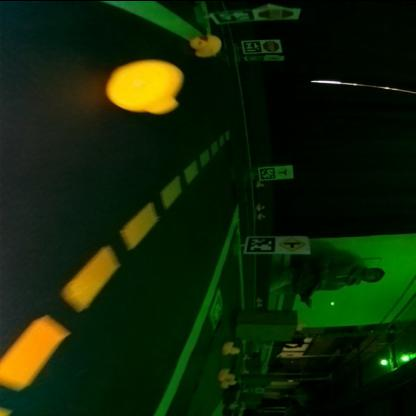Duckie: (108, 58, 184, 113), (192, 33, 223, 55), (223, 341, 242, 353), (218, 367, 236, 379), (223, 379, 236, 386), (258, 212, 266, 218), (258, 203, 266, 209), (258, 180, 265, 186), (256, 296, 264, 301)
Intersection sign: (279, 235, 307, 251), (277, 165, 293, 177)
QR code: (208, 287, 224, 329), (247, 235, 277, 252), (214, 10, 252, 22), (260, 165, 276, 179), (244, 38, 262, 50), (245, 54, 264, 60)
Stop sign: (258, 7, 296, 18), (264, 38, 280, 50)
